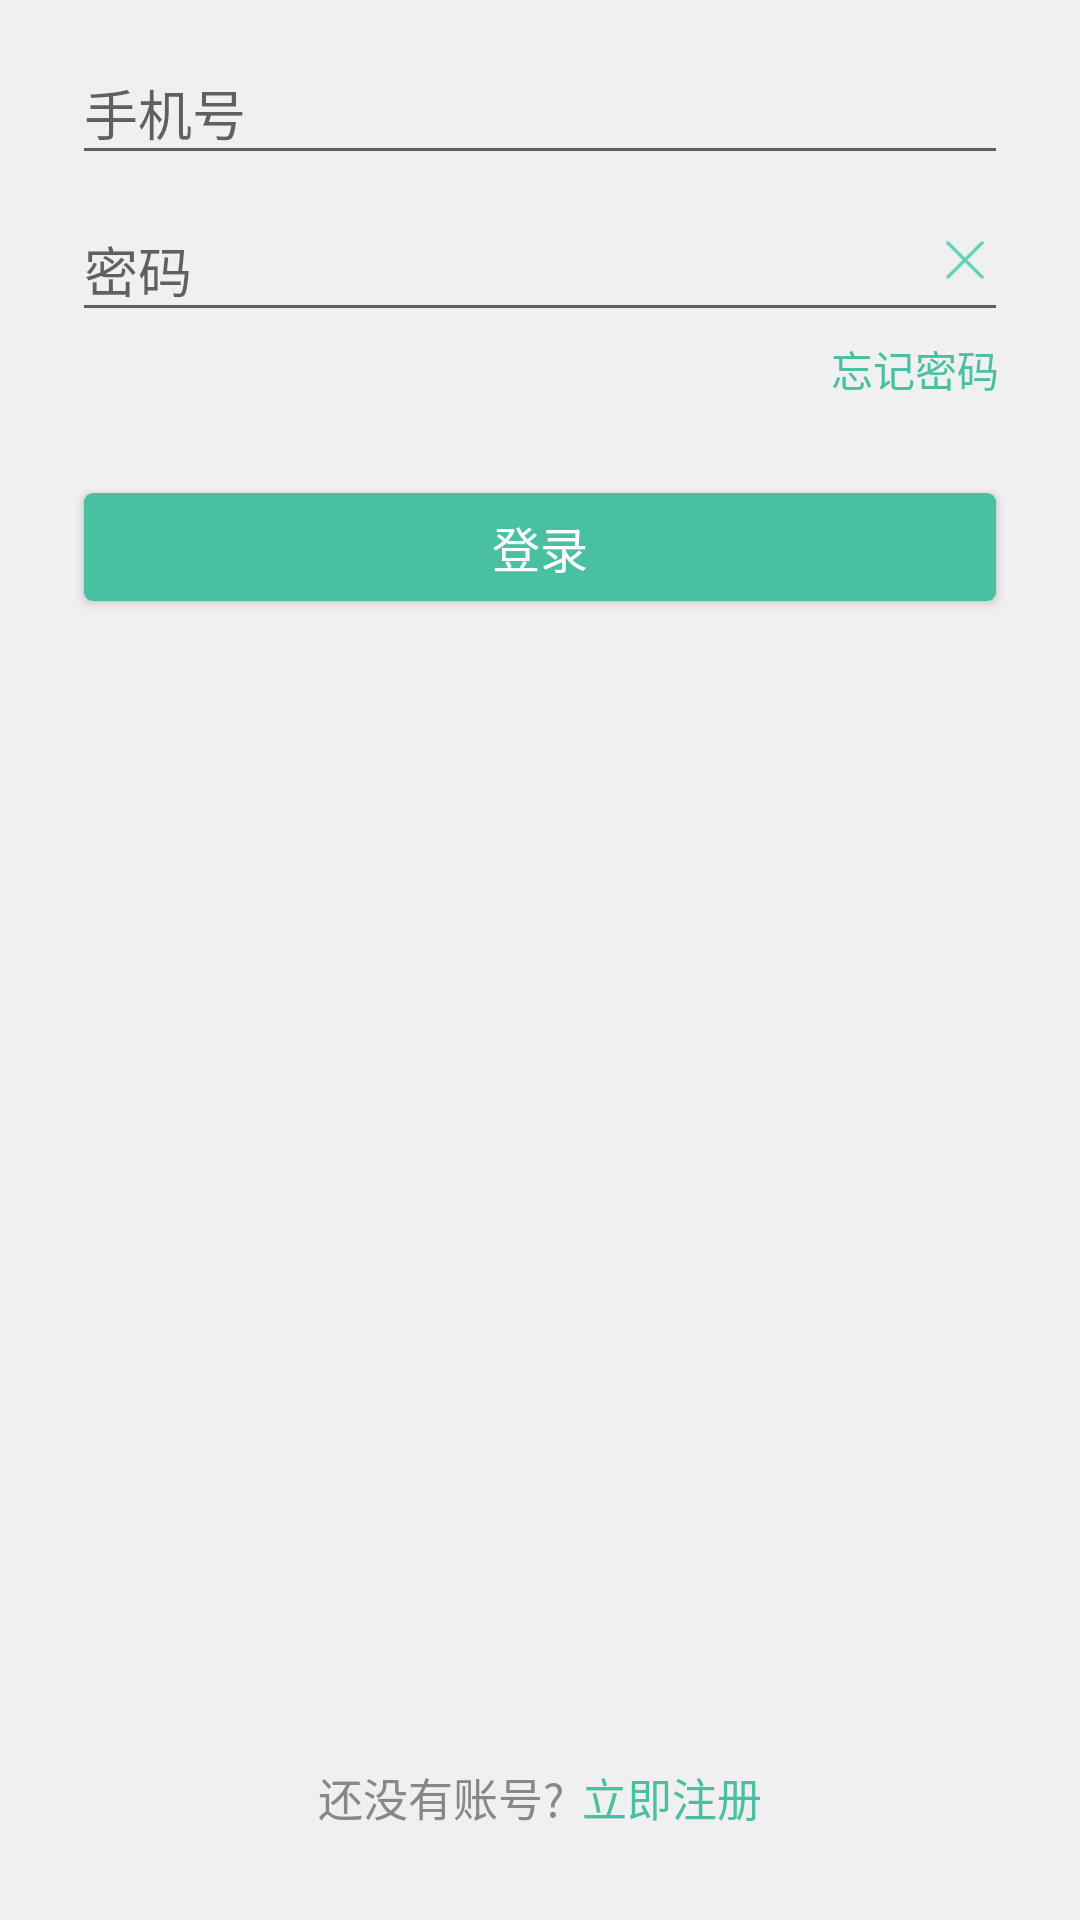

Icons on this 1080x1920 Android screen, each with the point to tap as [x,y]:
clear text: [965,260]
